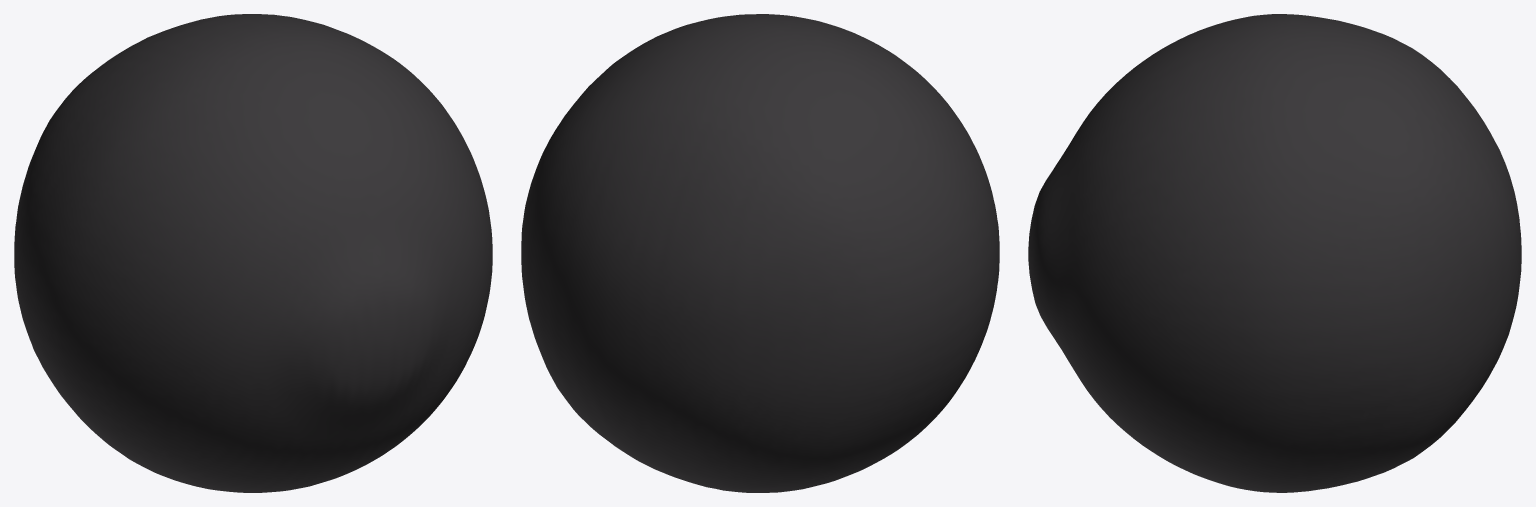
3 renders of one model, left to right at view 1: azimuth 30°, elevation 25°; view 2: azimuth 150°, elevation 25°; view 3: azimuth 270°, elevation 25°, orthographic.
Parts seen in each view (by area): view 1: Cornea_V5; view 2: Cornea_V5; view 3: Cornea_V5.
Boxes of the visible parts, <box> form: Cornea_V5: <box>14,14,492,492</box>; Cornea_V5: <box>521,14,999,492</box>; Cornea_V5: <box>1028,14,1521,492</box>.
Bounding box in the file's own units: 0.3025 × 0.303 × 0.3116.
Materials: 3 (3 with a texture image).
